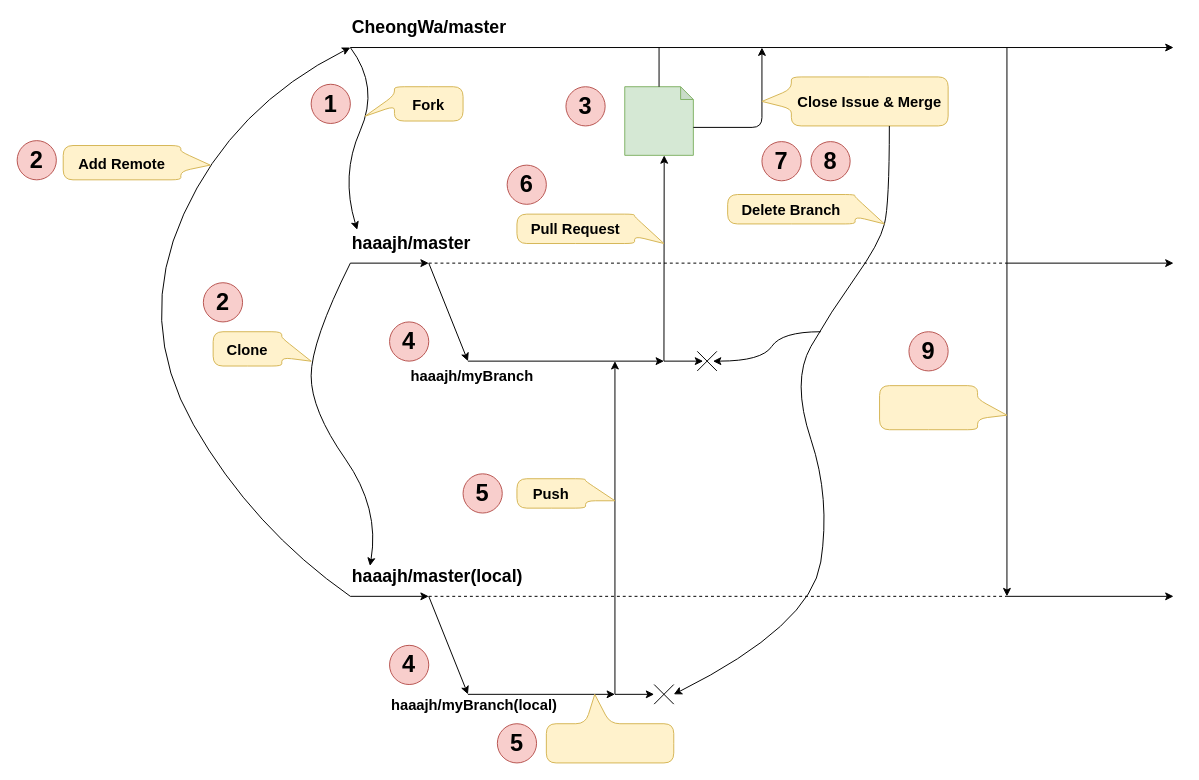
Some shapes in this 1199 by 780 pixel diagram are drawn without their labels. The centre of each missing label's shape, as x and y in pixels:
Add, Commit: point 609,728
Fetch: point 943,407
Issue #1: point 658,120
